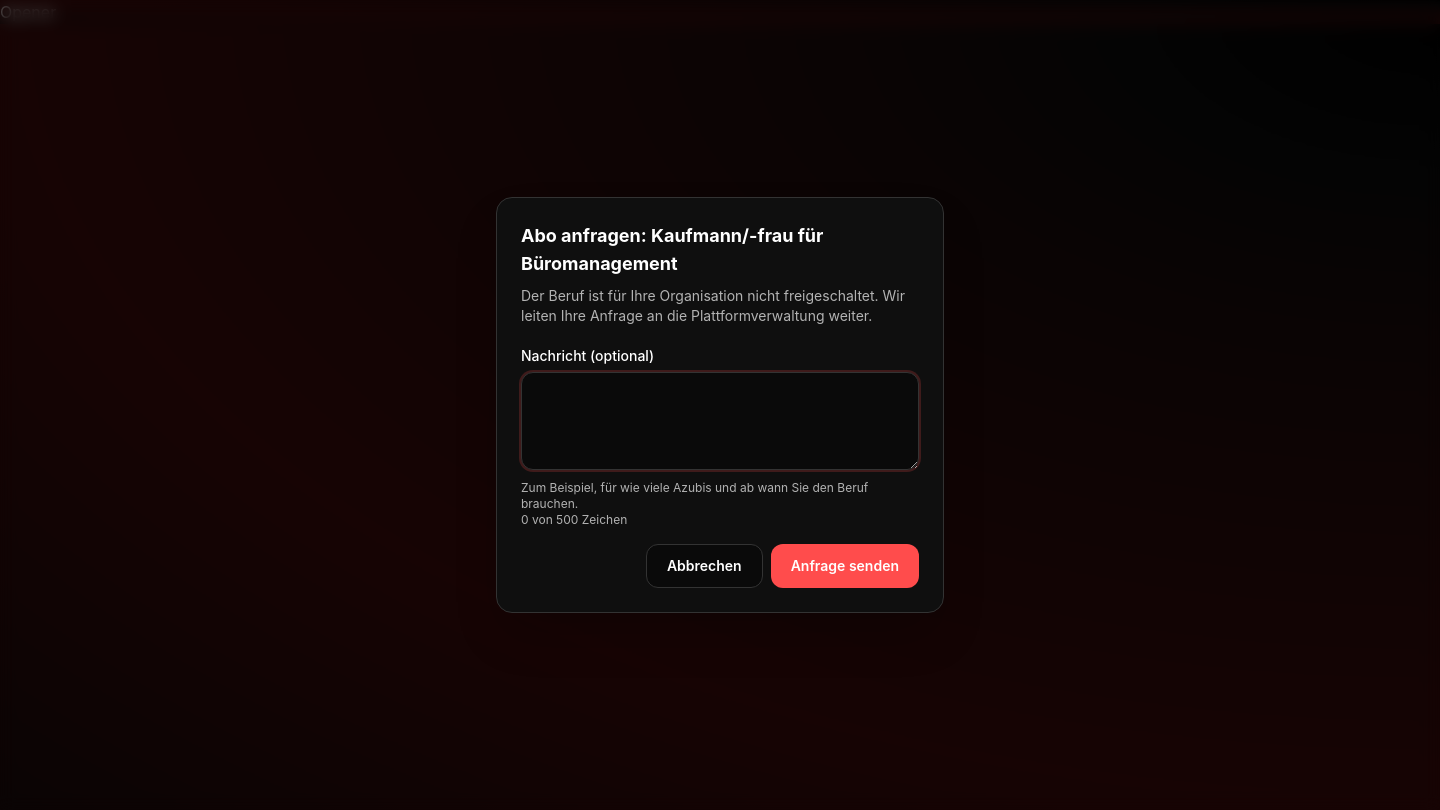
Test: CatalogRequestDialog › sending › sends the code and the message, then thanks the person
Type "Drei Azubis ab Februar" into the text box labelled "Nachricht (optional)" at (720, 421), box [521,372,919,470]
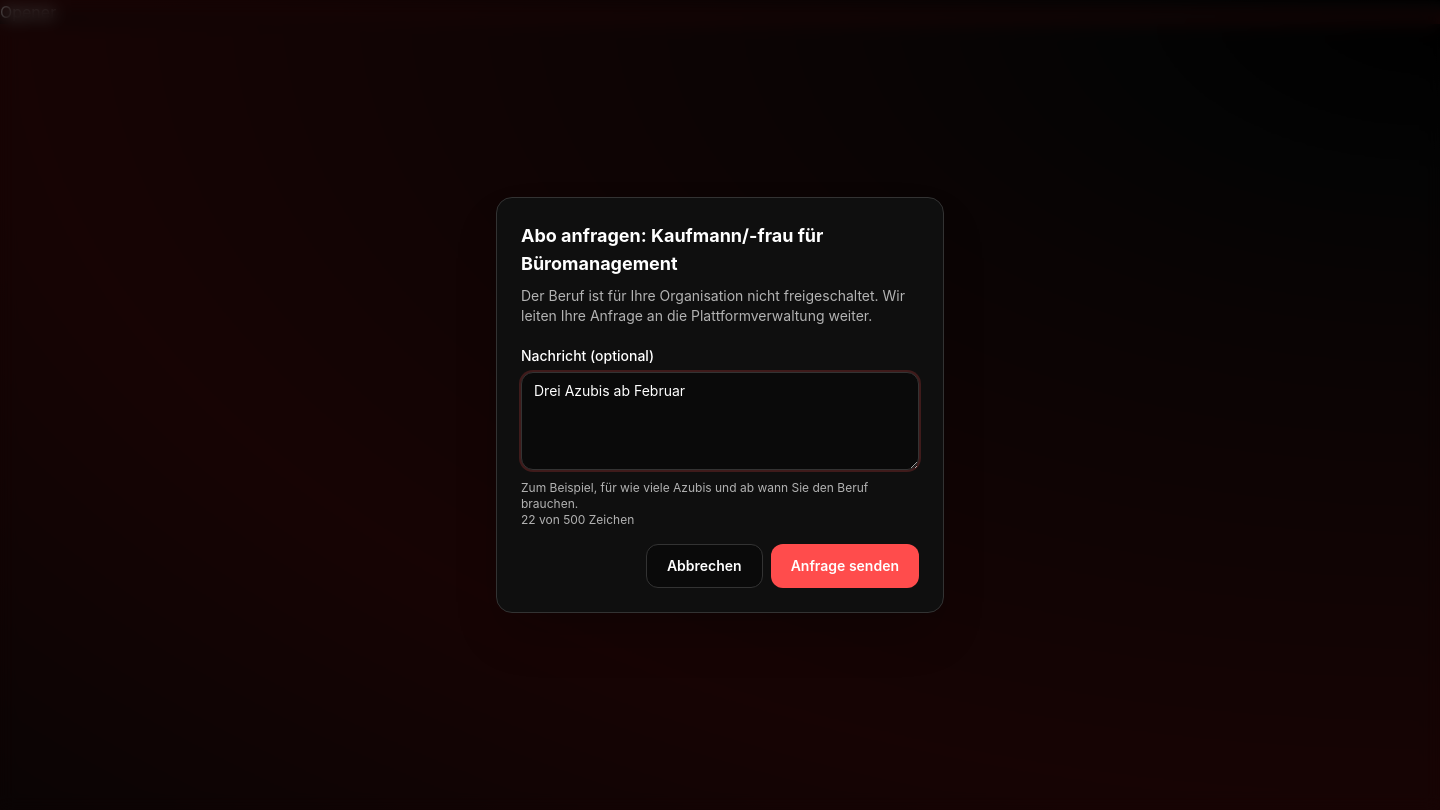
Click the button "Anfrage senden" at (845, 566), box [771,544,919,588]
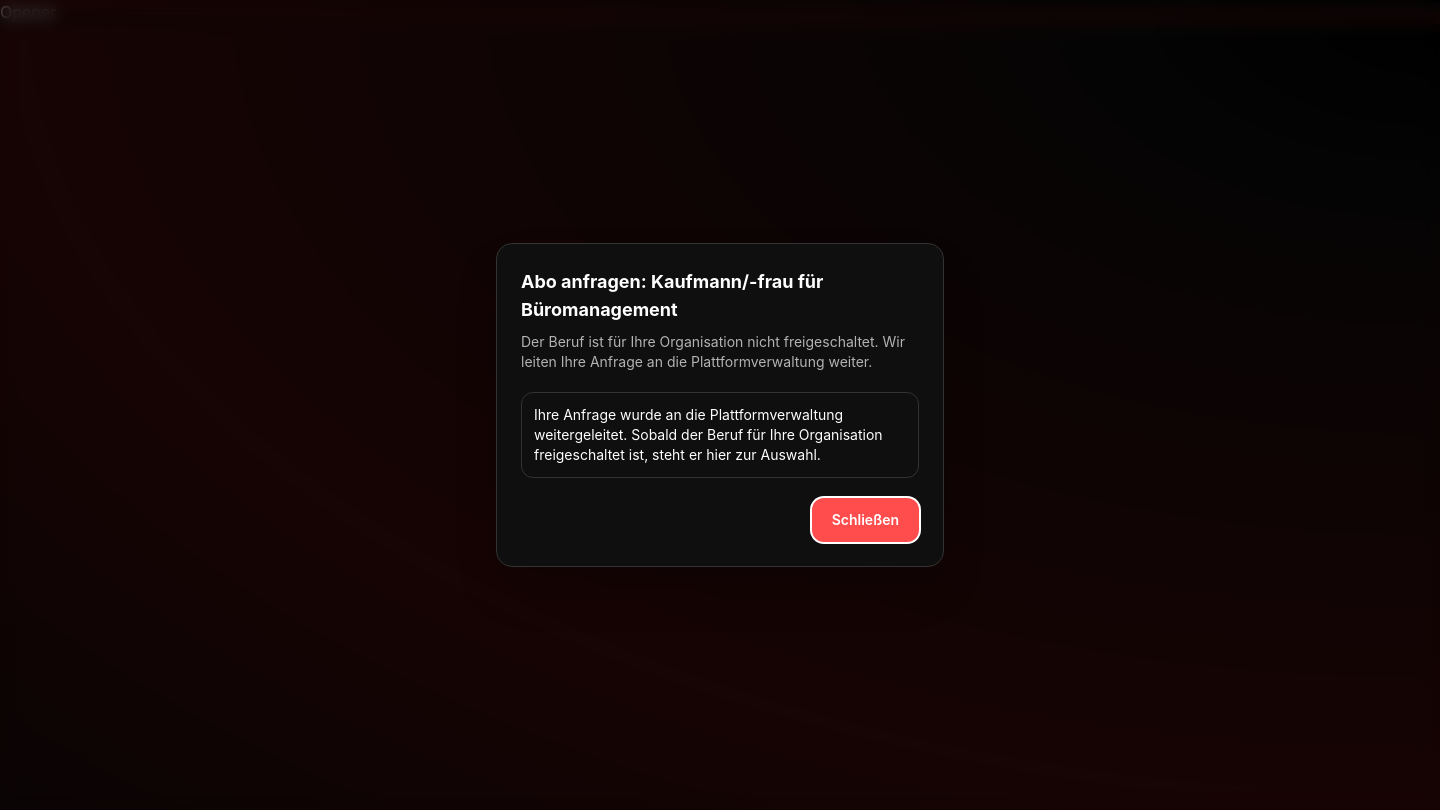
Now the message shows "Sobald der Beruf für Ihre Organisation freigeschaltet ist", box [534,406,883,463]
Now the label labelled "Nachricht (optional)" is gone
